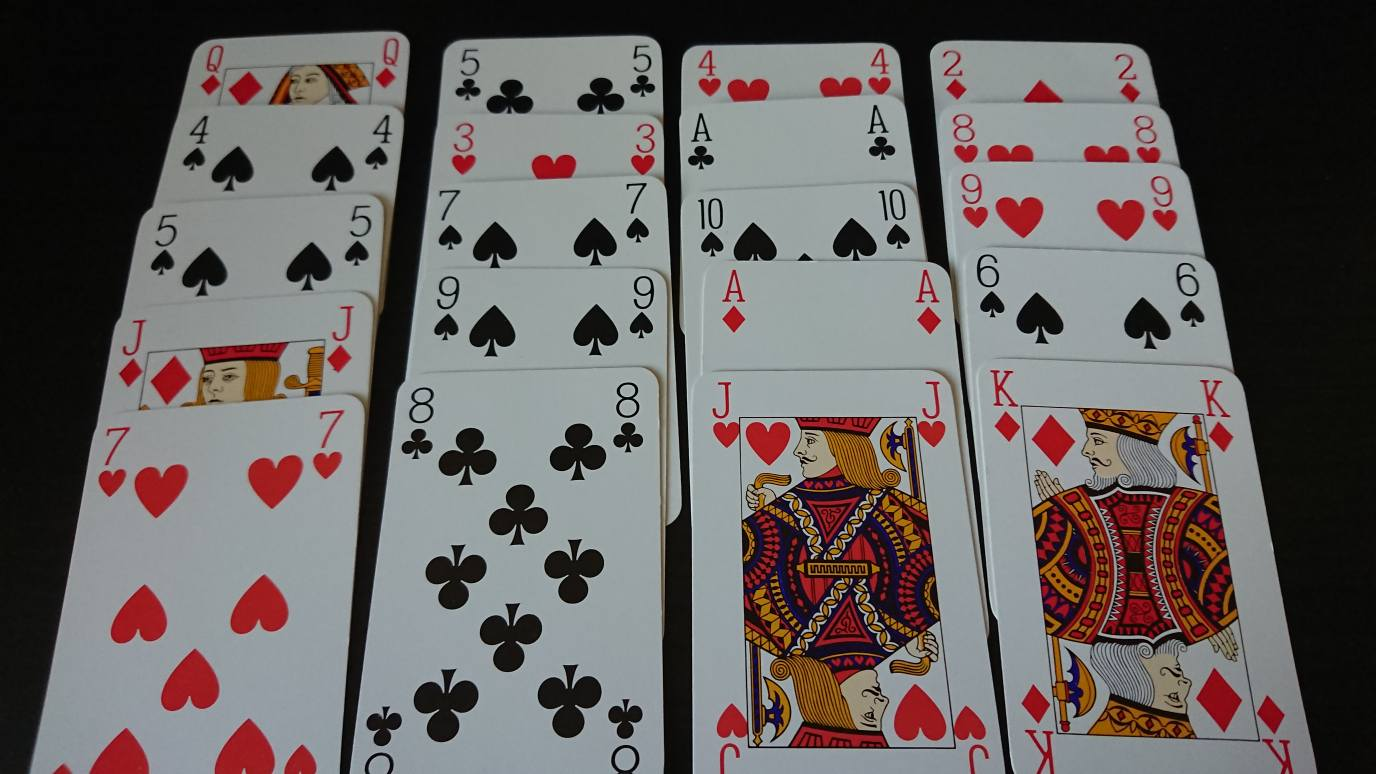10S: (873, 183, 915, 253), (691, 193, 732, 261)
2D: (1108, 47, 1145, 106), (936, 45, 971, 103)
3H: (447, 119, 481, 180), (628, 120, 660, 177)
4H: (864, 45, 896, 97), (693, 47, 723, 101)
4S: (360, 110, 395, 173), (179, 112, 212, 176)
5C: (625, 41, 661, 100), (452, 44, 484, 104)
5S: (146, 211, 183, 280), (340, 200, 375, 271)
6S: (1171, 258, 1208, 331), (971, 250, 1007, 322)
7H: (308, 404, 349, 483), (96, 422, 132, 501)
7S: (432, 185, 466, 253), (622, 180, 653, 245)
8C: (398, 383, 438, 464), (610, 377, 647, 456)
8H: (1127, 111, 1167, 165), (947, 109, 982, 165)
9H: (1143, 171, 1183, 234), (955, 170, 991, 232)
9S: (429, 272, 461, 346), (626, 272, 659, 343)
AC: (861, 100, 899, 165), (684, 109, 718, 174)
AD: (909, 264, 946, 339), (717, 266, 751, 337)
JD: (115, 316, 150, 391), (324, 301, 358, 376)
JH: (704, 377, 743, 452), (913, 374, 950, 453)
KD: (1195, 374, 1242, 457), (984, 365, 1025, 445)
QD: (371, 34, 404, 92), (196, 40, 226, 99)
